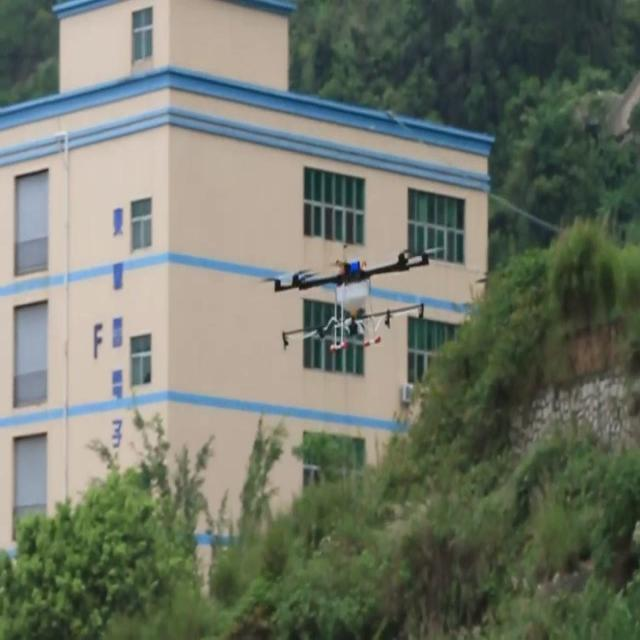drone: (264, 243, 444, 354)
